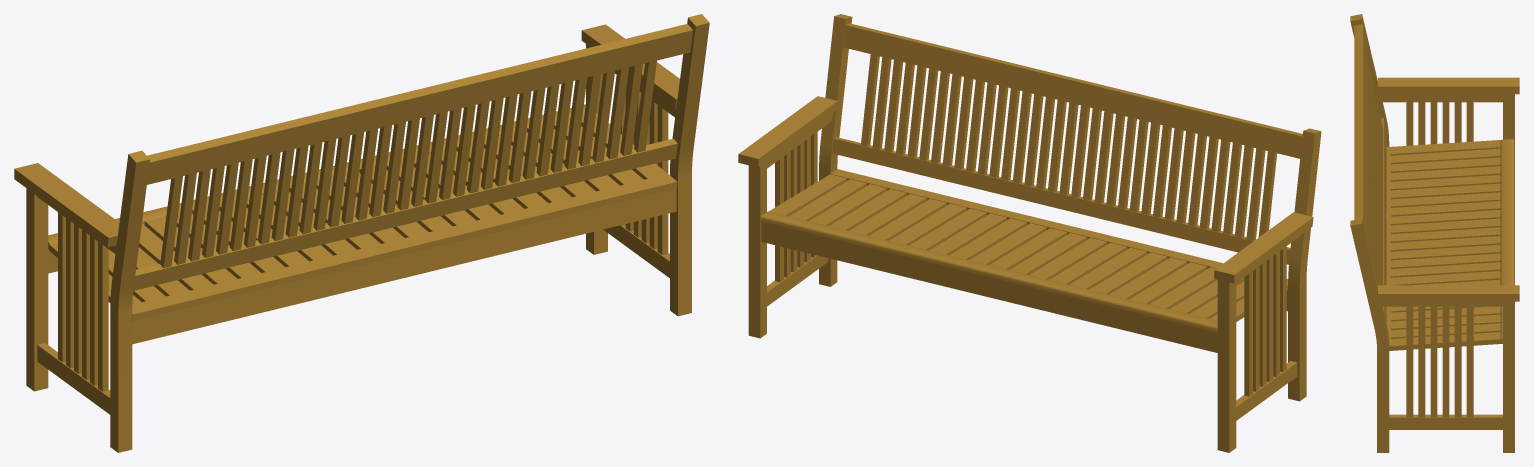
3 views of the same model, side by side, from view 1: azimuth 30°, elevation 25°; view 2: azimuth 150°, elevation 25°; view 3: azimuth 270°, elevation 25° (orthographic). The views are drawn at different scales.
Visible parts, largest first — view 1: mesh37_mesh37-geometry, mesh35_mesh35-geometry, mesh11_mesh11-geometry, mesh7_mesh7-geometry, mesh42_mesh42-geometry, mesh9_mesh9-geometry, mesh13_mesh13-geometry, mesh15_mesh15-geometry, mesh23_mesh23-geometry, mesh19_mesh19-geometry, mesh17_mesh17-geometry, mesh25_mesh25-geometry (+4 smaller); view 2: mesh37_mesh37-geometry, mesh11_mesh11-geometry, mesh35_mesh35-geometry, mesh5_mesh5-geometry, mesh42_mesh42-geometry, mesh33_mesh33-geometry, mesh13_mesh13-geometry, mesh15_mesh15-geometry, mesh19_mesh19-geometry, mesh31_mesh31-geometry, mesh9_mesh9-geometry, mesh23_mesh23-geometry (+5 smaller); view 3: mesh11_mesh11-geometry, mesh25_mesh25-geometry, mesh23_mesh23-geometry, mesh37_mesh37-geometry, mesh35_mesh35-geometry, mesh17_mesh17-geometry, mesh29_mesh29-geometry, mesh33_mesh33-geometry, mesh13_mesh13-geometry, mesh31_mesh31-geometry, mesh27_mesh27-geometry, mesh3_mesh3-geometry (+5 smaller).
Part boxes in pixels (<box>): mesh37_mesh37-geometry: <box>160,60,656,268</box>; mesh35_mesh35-geometry: <box>147,24,692,184</box>; mesh11_mesh11-geometry: <box>49,113,667,304</box>; mesh7_mesh7-geometry: <box>132,188,676,344</box>; mesh42_mesh42-geometry: <box>133,138,677,290</box>; mesh9_mesh9-geometry: <box>132,174,677,321</box>; mesh13_mesh13-geometry: <box>58,212,108,391</box>; mesh15_mesh15-geometry: <box>110,150,149,452</box>; mesh23_mesh23-geometry: <box>670,14,709,316</box>; mesh19_mesh19-geometry: <box>26,188,48,391</box>; mesh17_mesh17-geometry: <box>14,163,119,247</box>; mesh25_mesh25-geometry: <box>620,83,668,255</box>; mesh37_mesh37-geometry: <box>861,54,1277,240</box>; mesh11_mesh11-geometry: <box>769,174,1287,321</box>; mesh35_mesh35-geometry: <box>843,23,1302,158</box>; mesh5_mesh5-geometry: <box>761,221,1217,352</box>; mesh42_mesh42-geometry: <box>832,137,1290,264</box>; mesh33_mesh33-geometry: <box>760,211,1217,332</box>; mesh13_mesh13-geometry: <box>1244,246,1286,396</box>; mesh15_mesh15-geometry: <box>1288,128,1321,401</box>; mesh19_mesh19-geometry: <box>1217,280,1236,452</box>; mesh31_mesh31-geometry: <box>748,162,766,338</box>; mesh9_mesh9-geometry: <box>830,169,1288,290</box>; mesh23_mesh23-geometry: <box>819,14,852,286</box>; mesh11_mesh11-geometry: <box>1391,140,1500,350</box>; mesh25_mesh25-geometry: <box>1406,306,1473,417</box>; mesh23_mesh23-geometry: <box>1350,218,1389,452</box>; mesh37_mesh37-geometry: <box>1367,63,1382,285</box>; mesh35_mesh35-geometry: <box>1354,24,1367,239</box>; mesh17_mesh17-geometry: <box>1378,77,1519,94</box>; mesh29_mesh29-geometry: <box>1378,285,1519,301</box>; mesh33_mesh33-geometry: <box>1500,139,1514,343</box>; mesh13_mesh13-geometry: <box>1406,102,1473,145</box>; mesh31_mesh31-geometry: <box>1503,301,1514,452</box>; mesh27_mesh27-geometry: <box>1389,414,1502,429</box>; mesh3_mesh3-geometry: <box>1380,94,1502,102</box>.
Bounding box in the file's own units: 0.8592 × 0.4253 × 0.2845.
